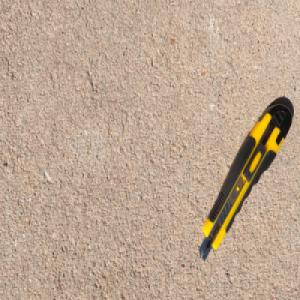Cutter: (197, 101, 292, 262)
